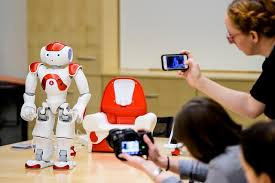nao: (13, 35, 102, 172)
